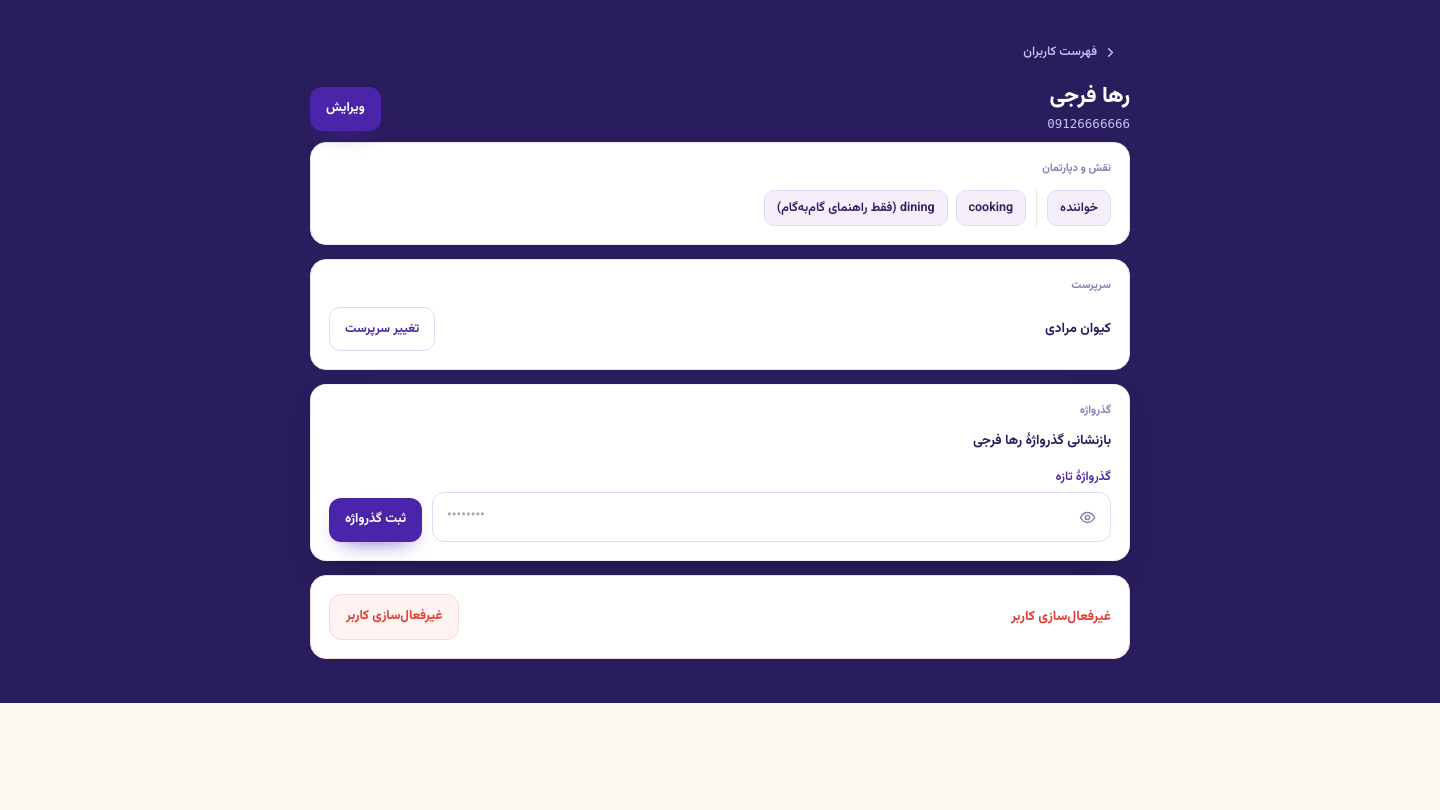
Test: when one of the dialog's own reads fails › retries the department registry too, and draws both grants once it arrives
Click the button "ویرایش".
click(345, 109)  # box [310,87,381,131]
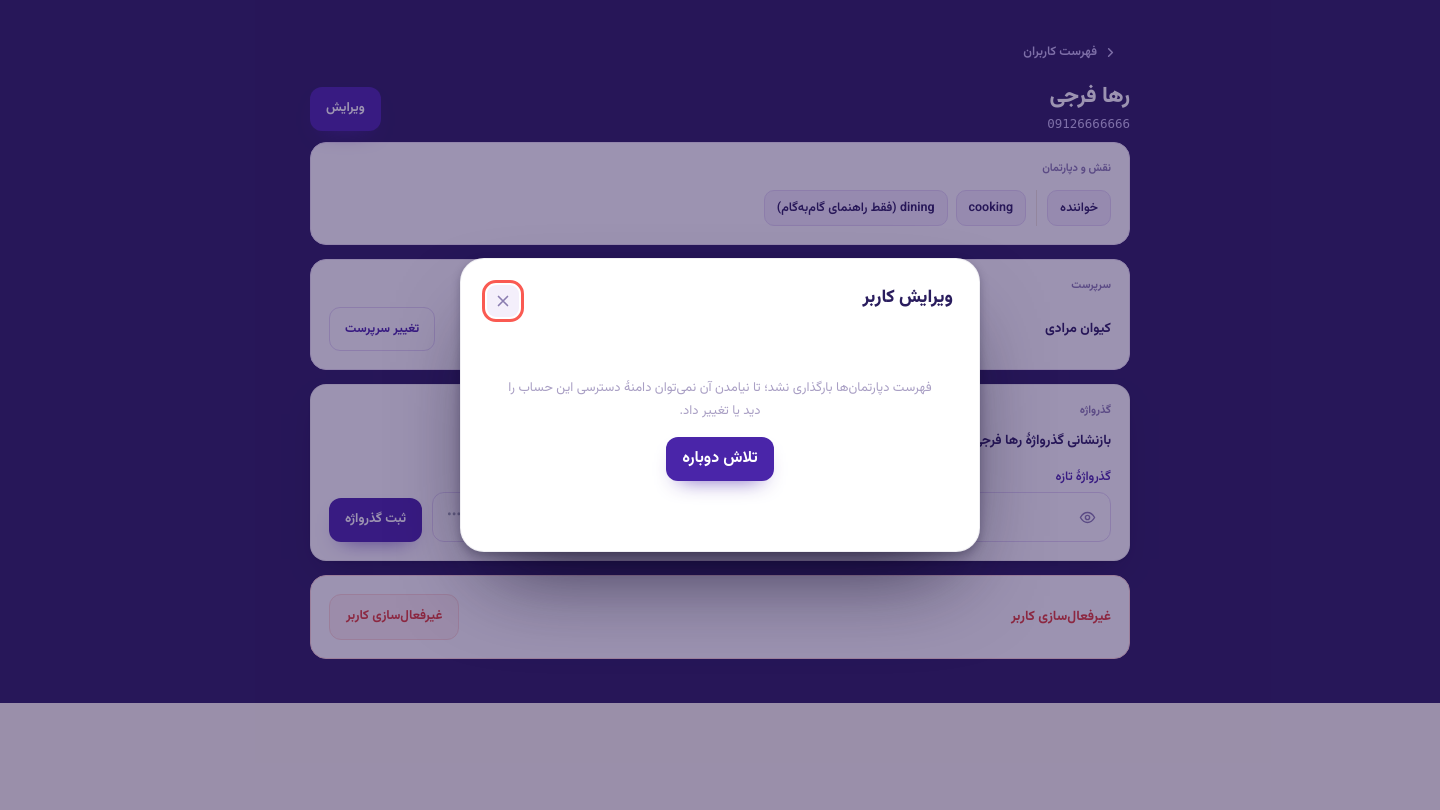
Expected: the dialog is shown, [460,258,980,552]
Expected: the text "فهرست دپارتمان‌ها بارگذاری نشد؛ تا نیامدن آن نمی‌توان دامنهٔ دسترسی این حساب را دید یا تغییر داد." is shown, [508,378,932,421]
Click the button "تلاش دوباره".
click(720, 459)  # box [666,437,774,481]
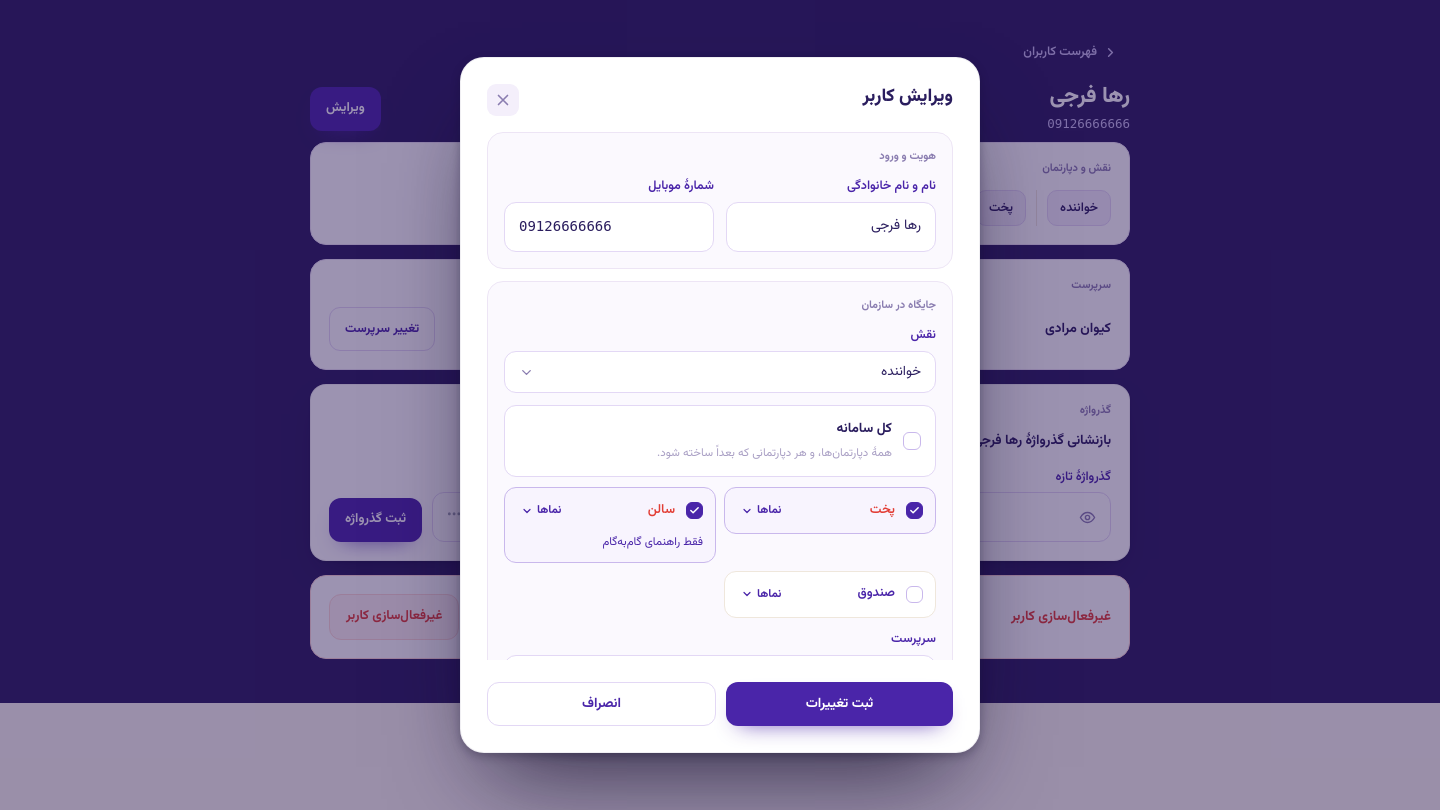
Expected: the checkbox labelled "پخت" is checked, [724,487,936,534]
Click the 1st button "نماها".
click(541, 511)  # box [517,498,565,523]
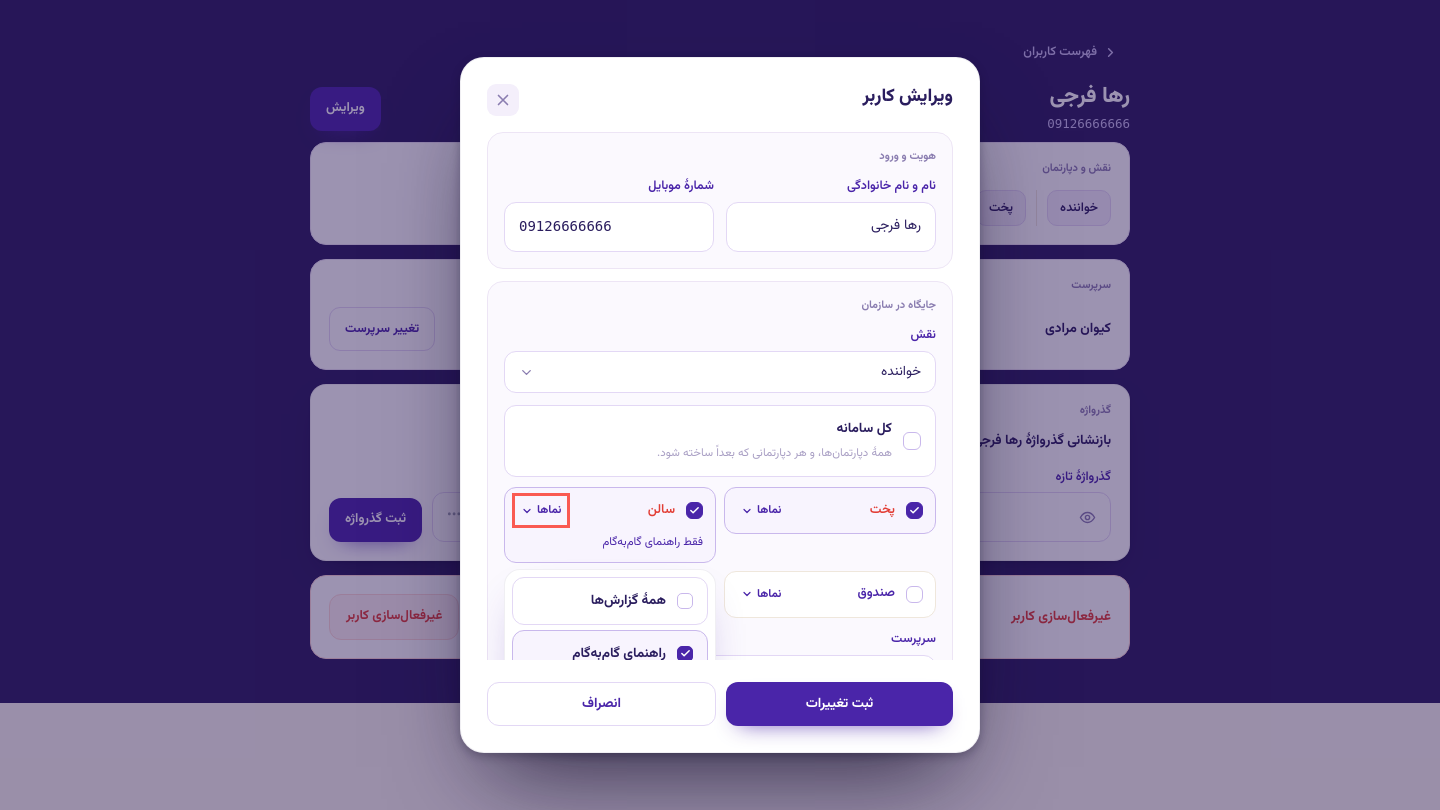
Expected: the checkbox labelled "کل سامانه" is not checked, [504,405,936,477]
Expected: the checkbox labelled "راهنمای گام‌به‌گام" is checked, [512,630,708,660]
